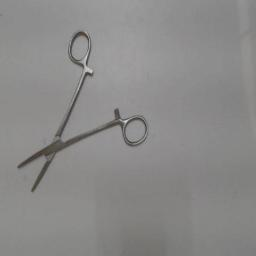Mayo Needle Holder: (11, 25, 153, 201)
